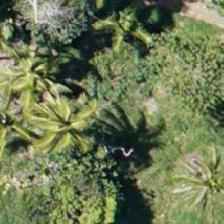coconut_tree: (12, 75, 102, 165), (0, 26, 71, 116)
